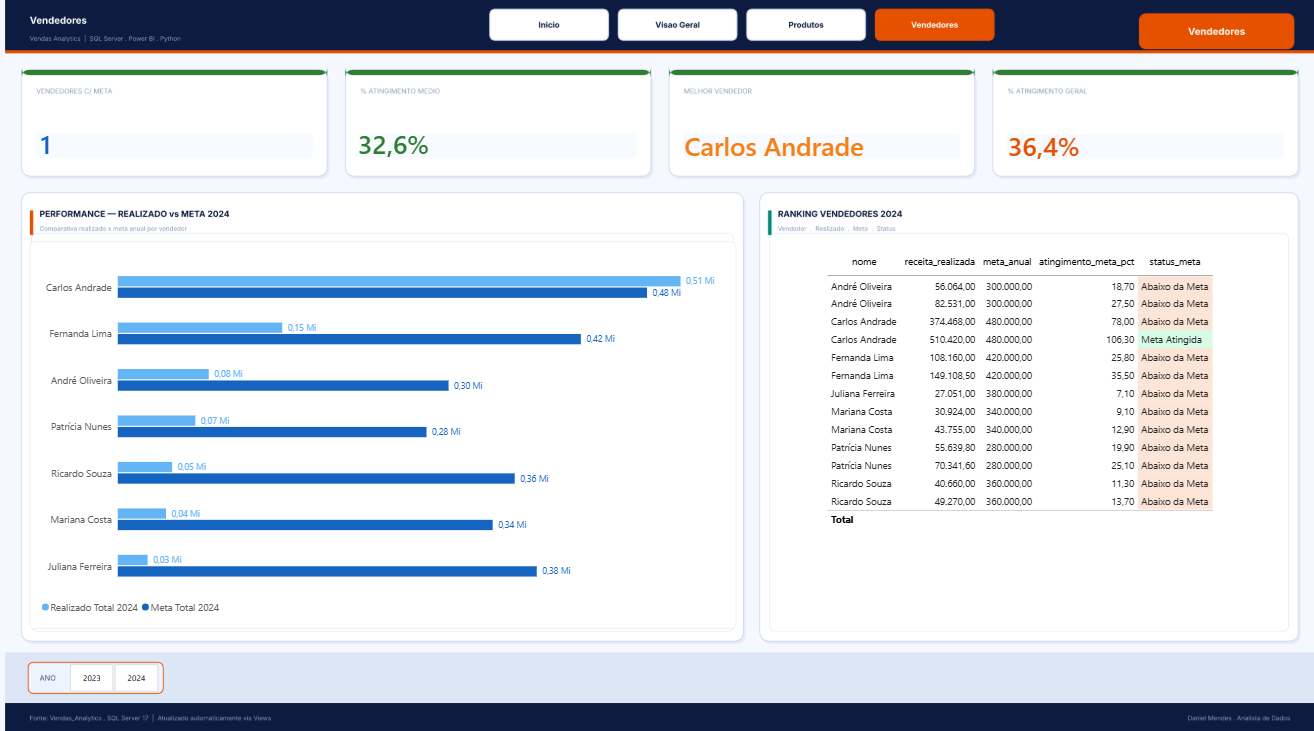

The dashboard page shown, as its layout file describes it:
{"tool":"powerbi","page":{"name":"Vendedores","canvas":[1920,1080],"ordinal":3},"visuals":[{"type":"actionButton","box":[714.9,22,169.4,41.8],"z":0},{"type":"actionButton","box":[899.7,22,169.4,41.8],"z":1000},{"type":"actionButton","box":[1084.5,22,169.4,41.8],"z":2000},{"type":"cardVisual","fields":{"Data":["_Medidas.Vendedores Meta Atingida"]},"box":[47.1,175.6,413.2,83.5],"z":3000},{"type":"cardVisual","fields":{"Data":["_Medidas.% Atingimento Médio"]},"box":[507.4,175.6,413.2,83.5],"z":4000},{"type":"cardVisual","fields":{"Data":["_Medidas.Melhor Vendedor"]},"box":[978.4,177.7,413.2,83.5],"z":5000},{"type":"cardVisual","fields":{"Data":["_Medidas.% Atingimento Geral"]},"box":[1447.3,177.7,413.2,83.5],"z":6000},{"type":"clusteredBarChart","fields":{"Category":["vw_performance_vendedores.nome"],"Y":["_Medidas.Realizado Total 2024","_Medidas.Meta Total 2024"]},"box":[46.2,358.6,1022.9,561],"z":7000},{"type":"tableEx","fields":{"Values":["vw_performance_vendedores.nome","vw_performance_vendedores.receita_realizada","vw_performance_vendedores.meta_anual","vw_performance_vendedores.atingimento_meta_pct","vw_performance_vendedores.status_meta"]},"box":[1185.7,358.6,613.8,561],"z":8000},{"type":"slicer","fields":{"Values":["vw_performance_vendedores.ano"]},"box":[85.8,967.9,167.2,44],"z":9000}]}

Visuals, with their boxes in screenshot pixels (x1, y1, x2, y2), scaled from the page's 1920x1080 canvas onto the 1314x731 screenshot:
actionButton: (x1=489, y1=15, x2=605, y2=43)
actionButton: (x1=616, y1=15, x2=732, y2=43)
actionButton: (x1=742, y1=15, x2=858, y2=43)
cardVisual - _Medidas.Vendedores Meta Atingida: (x1=32, y1=119, x2=315, y2=175)
cardVisual - _Medidas.% Atingimento Médio: (x1=347, y1=119, x2=630, y2=175)
cardVisual - _Medidas.Melhor Vendedor: (x1=670, y1=120, x2=952, y2=177)
cardVisual - _Medidas.% Atingimento Geral: (x1=990, y1=120, x2=1273, y2=177)
clusteredBarChart - vw_performance_vendedores.nome x _Medidas.Realizado Total 2024: (x1=32, y1=243, x2=732, y2=622)
tableEx - vw_performance_vendedores.nome x vw_performance_vendedores.receita_realizada: (x1=811, y1=243, x2=1232, y2=622)
slicer - vw_performance_vendedores.ano: (x1=59, y1=655, x2=173, y2=685)
